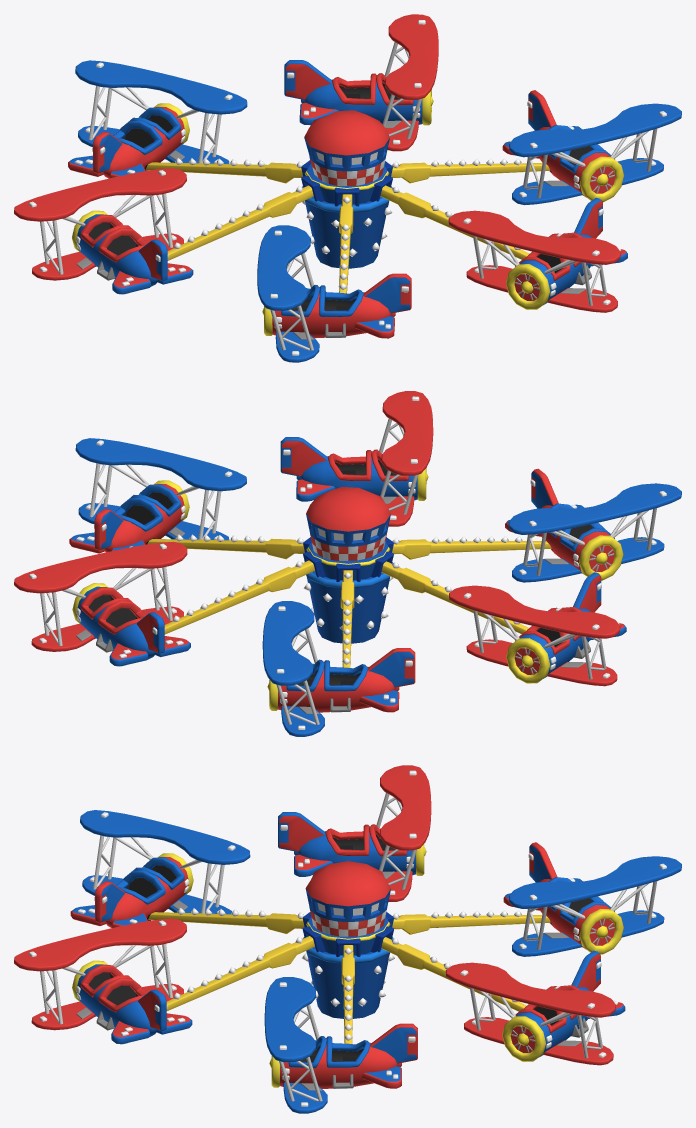
File: attraction_010.gltf
3 views of the same model, one above another, from view 1: azimuth 30°, elevation 25°; view 2: azimuth 150°, elevation 25°; view 3: azimuth 270°, elevation 25° (orthographic).
Visible parts, largest first — view 1: attraction_10_003 (×3), attraction_10_004 (×3), attraction_10_001, attraction_10_002, attraction_10_002 (1), attraction_10_002 (4), attraction_10_002 (5), attraction_10_002 (2); view 2: attraction_10_003 (×3), attraction_10_004 (×3), attraction_10_001, attraction_10_002 (3), attraction_10_002 (2), attraction_10_002 (1), attraction_10_002, attraction_10_002 (4); view 3: attraction_10_004 (×3), attraction_10_003 (×3), attraction_10_001, attraction_10_002 (5), attraction_10_002 (2), attraction_10_002 (4), attraction_10_002 (3), attraction_10_002 (1).
Boxes of the visible parts, bbox=[...] form: attraction_10_003 (×3): bbox=[14, 14, 627, 312]; attraction_10_004 (×3): bbox=[68, 60, 681, 362]; attraction_10_001: bbox=[301, 110, 392, 268]; attraction_10_002: bbox=[167, 185, 313, 260]; attraction_10_002 (1): bbox=[391, 158, 550, 183]; attraction_10_002 (4): bbox=[145, 158, 303, 183]; attraction_10_002 (5): bbox=[380, 185, 529, 259]; attraction_10_002 (2): bbox=[338, 194, 353, 293]; attraction_10_003 (×3): bbox=[14, 391, 626, 686]; attraction_10_004 (×3): bbox=[69, 438, 681, 736]; attraction_10_001: bbox=[303, 487, 393, 643]; attraction_10_002 (3): bbox=[164, 560, 314, 634]; attraction_10_002 (2): bbox=[392, 536, 551, 559]; attraction_10_002 (1): bbox=[147, 534, 304, 559]; attraction_10_002: bbox=[381, 561, 528, 634]; attraction_10_002 (4): bbox=[340, 570, 354, 667]; attraction_10_004 (×3): bbox=[70, 810, 681, 1113]; attraction_10_003 (×3): bbox=[14, 765, 625, 1065]; attraction_10_001: bbox=[301, 861, 394, 1018]; attraction_10_002 (5): bbox=[166, 936, 314, 1010]; attraction_10_002 (2): bbox=[148, 908, 304, 933]; attraction_10_002 (4): bbox=[392, 910, 550, 934]; attraction_10_002 (3): bbox=[381, 937, 526, 1011]; attraction_10_002 (1): bbox=[341, 945, 354, 1043].
Size of the model in its own units: 18.27 by 4.06 by 17.59.
2 materials, 1 textured.
